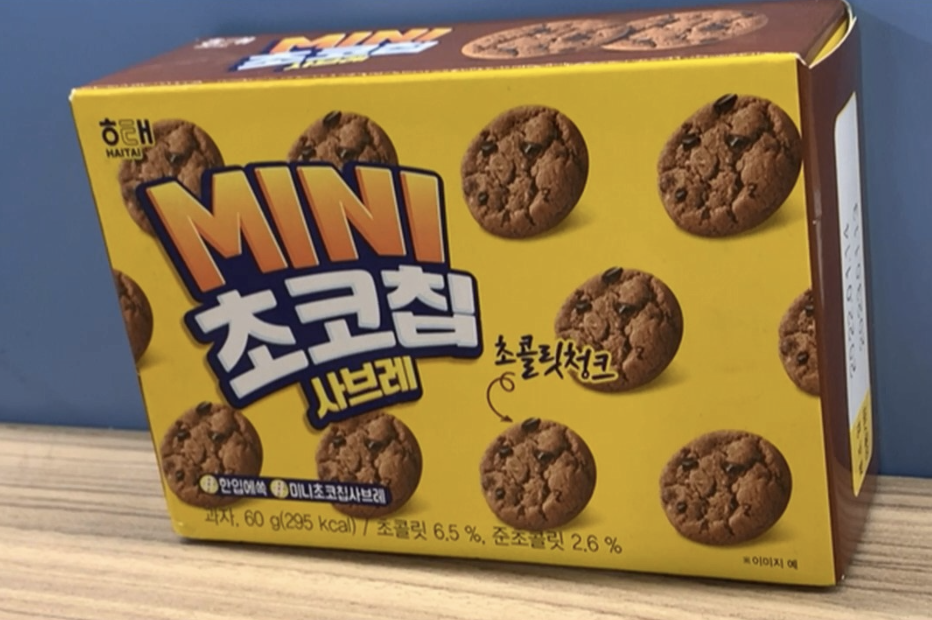cookies_50g: (139, 118, 809, 540)
